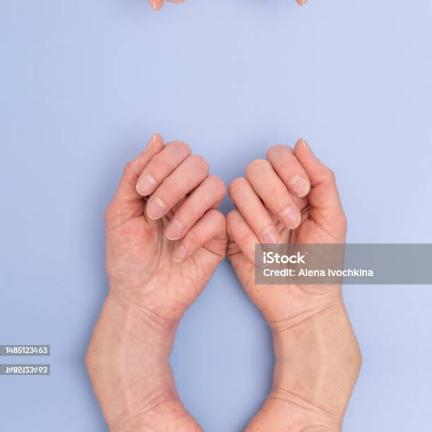Nail: (136, 174, 157, 196), (147, 196, 166, 220), (281, 207, 301, 229), (262, 226, 280, 249), (165, 219, 184, 240), (291, 175, 309, 197), (172, 246, 186, 263), (303, 138, 314, 154), (146, 133, 156, 149), (148, 0, 156, 11), (303, 0, 308, 6)
